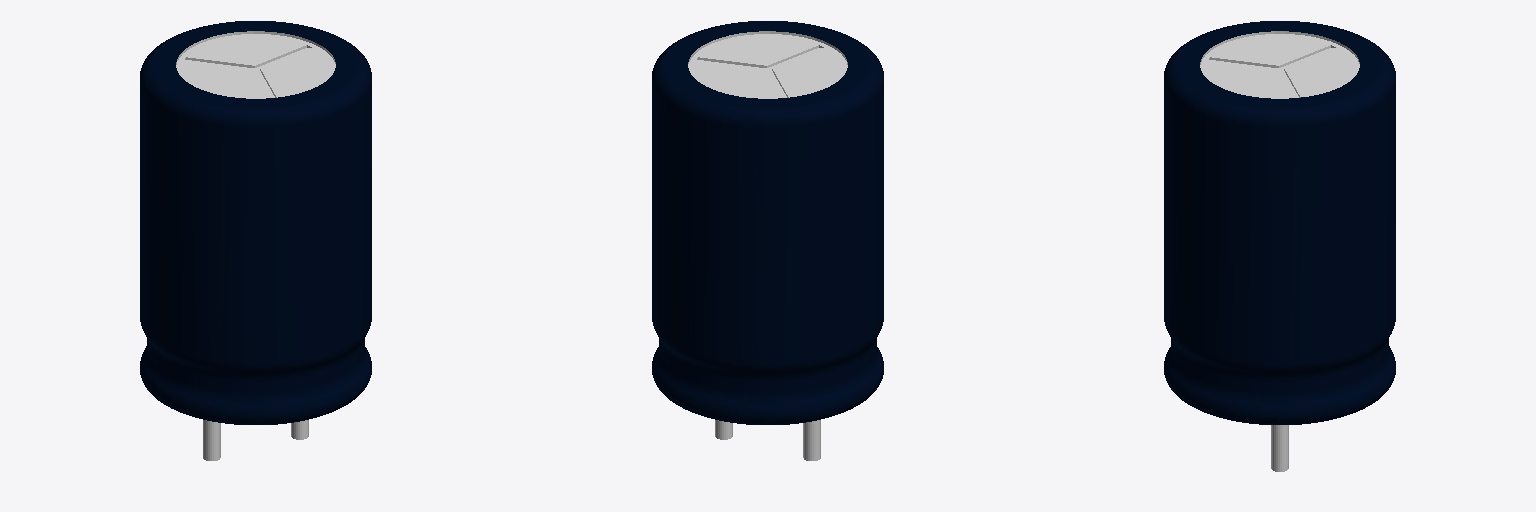
The model's file is clinder.obj.
3 renders of one model, left to right at view 1: azimuth 30°, elevation 25°; view 2: azimuth 150°, elevation 25°; view 3: azimuth 270°, elevation 25°, orthographic.
Parts seen in each view (by area): view 1: Object.1; view 2: Object.1; view 3: Object.1.
Part boxes in pixels (x1,y1,x2,y2): Object.1: (140, 21, 371, 460); Object.1: (652, 21, 883, 460); Object.1: (1164, 21, 1395, 471).
Bounding box in the file's own units: 8 × 14.5 × 8.